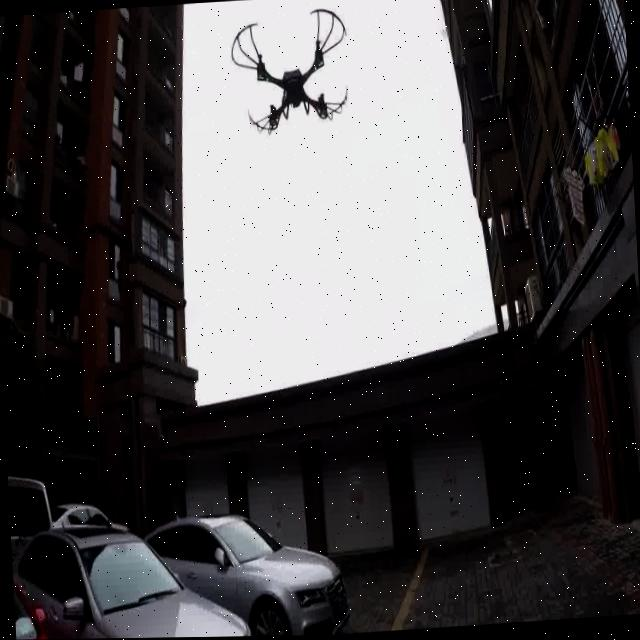drone: (230, 0, 353, 162)
